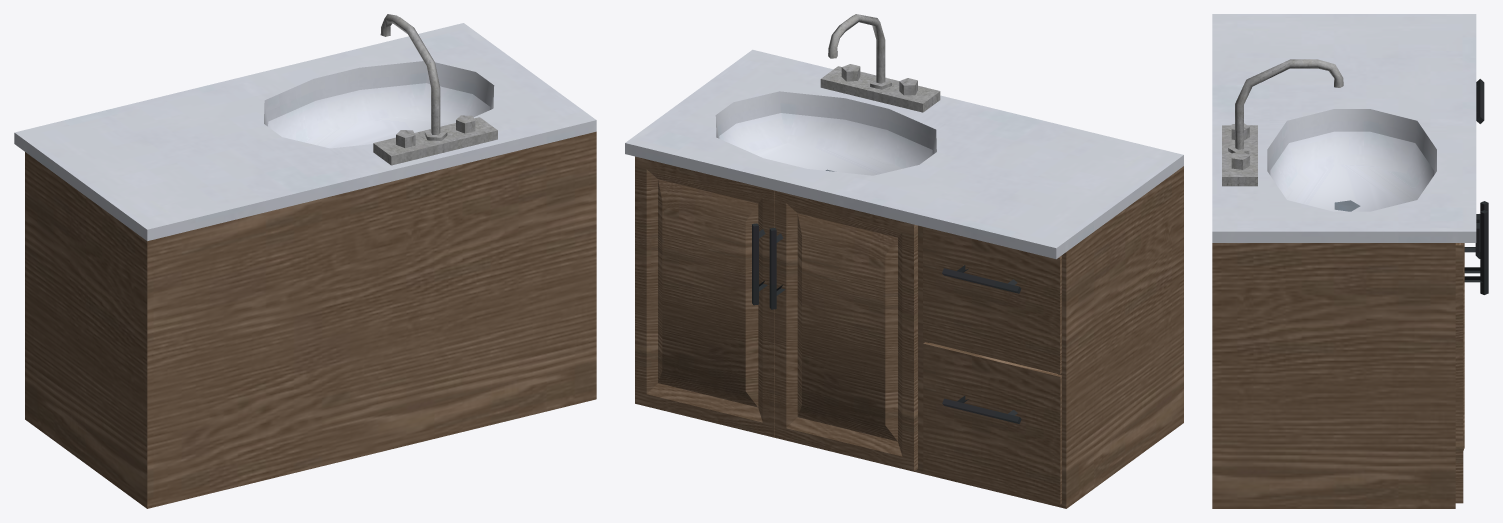
The model's file is Washbasin_07-col.glb.
3 views of the same model, side by side, from view 1: azimuth 30°, elevation 25°; view 2: azimuth 150°, elevation 25°; view 3: azimuth 270°, elevation 25° (orthographic). The views are drawn at different scales.
Visible parts, largest first — view 1: Washbasin_07-col; view 2: Washbasin_07-col, Washbasin_door_03, Washbasin_door_02, Washbasin_drawer_05, Washbasin_drawer_04; view 3: Washbasin_07-col, Washbasin_door_02, Washbasin_drawer_04.
Boxes of the visible parts, box(x1,y1,x2,y2) form: Washbasin_07-col: box(14, 14, 596, 508); Washbasin_07-col: box(625, 14, 1183, 508); Washbasin_door_03: box(769, 190, 917, 471); Washbasin_door_02: box(635, 156, 774, 437); Washbasin_drawer_05: box(923, 342, 1061, 504); Washbasin_drawer_04: box(923, 227, 1061, 374); Washbasin_07-col: box(1212, 14, 1476, 508); Washbasin_door_02: box(1455, 210, 1488, 503); Washbasin_drawer_04: box(1476, 79, 1484, 123).
Bounding box in the file's own units: 1.09 × 0.8843 × 0.5847.
5 materials, 5 textured.
